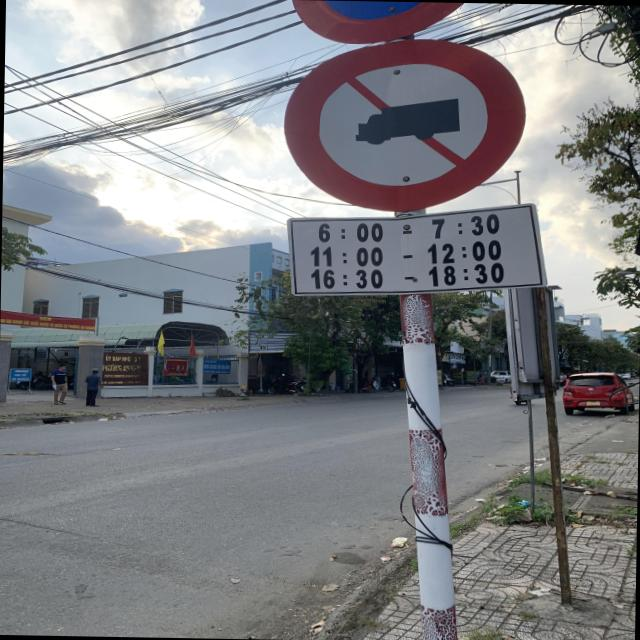Cam_Xe_Tai: (279, 36, 531, 215)
